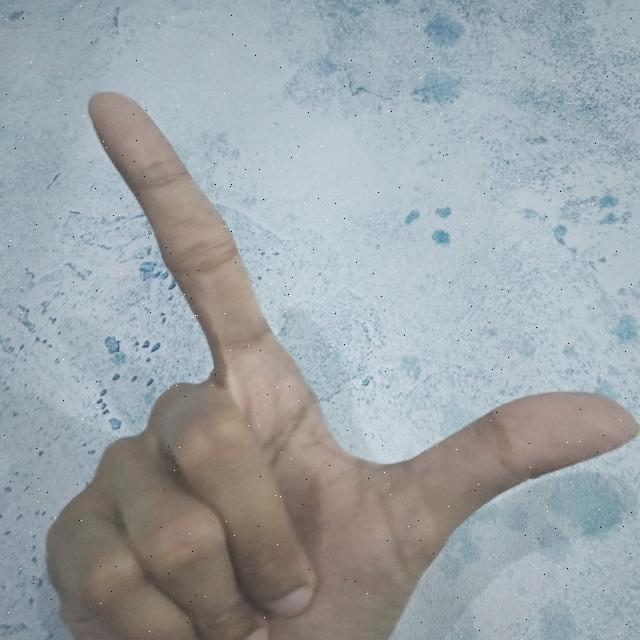L: (32, 85, 640, 640)
